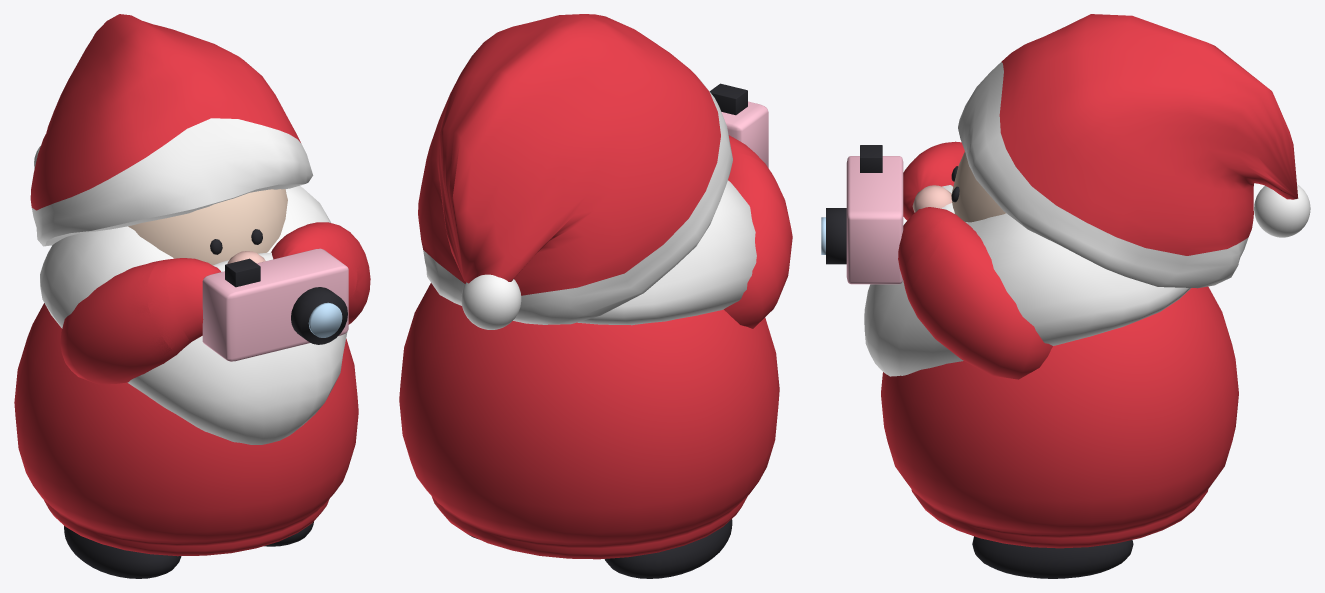
The model's file is camera.glb.
3 renders of one model, left to right at view 1: azimuth 30°, elevation 25°; view 2: azimuth 150°, elevation 25°; view 3: azimuth 270°, elevation 25°, orthographic. The views are drawn at different scales.
Parts seen in each view (by area): view 1: camera_red, camera_white, camera_pink, camera_skin, camera_black, camera_sky; view 2: camera_red, camera_white, camera_black, camera_pink; view 3: camera_red, camera_white, camera_pink, camera_black, camera_skin, camera_nose.
Part boxes in pixels (x1,y1,x2,y2): camera_red: (14,14,370,556); camera_white: (32,118,347,444); camera_pink: (202,248,348,361); camera_skin: (128,189,287,265); camera_black: (64,229,347,578); camera_sky: (308,302,342,337); camera_red: (399,14,792,559); camera_white: (423,78,756,329); camera_black: (468,83,747,578); camera_pink: (721,101,768,167); camera_red: (881,14,1298,548); camera_white: (864,62,1310,376); camera_pink: (846,156,903,284); camera_black: (826,145,1133,578); camera_skin: (951,151,1005,222); camera_nose: (912,185,951,212).
Bounding box in the file's own units: 1.9 × 2.98 × 2.59.
